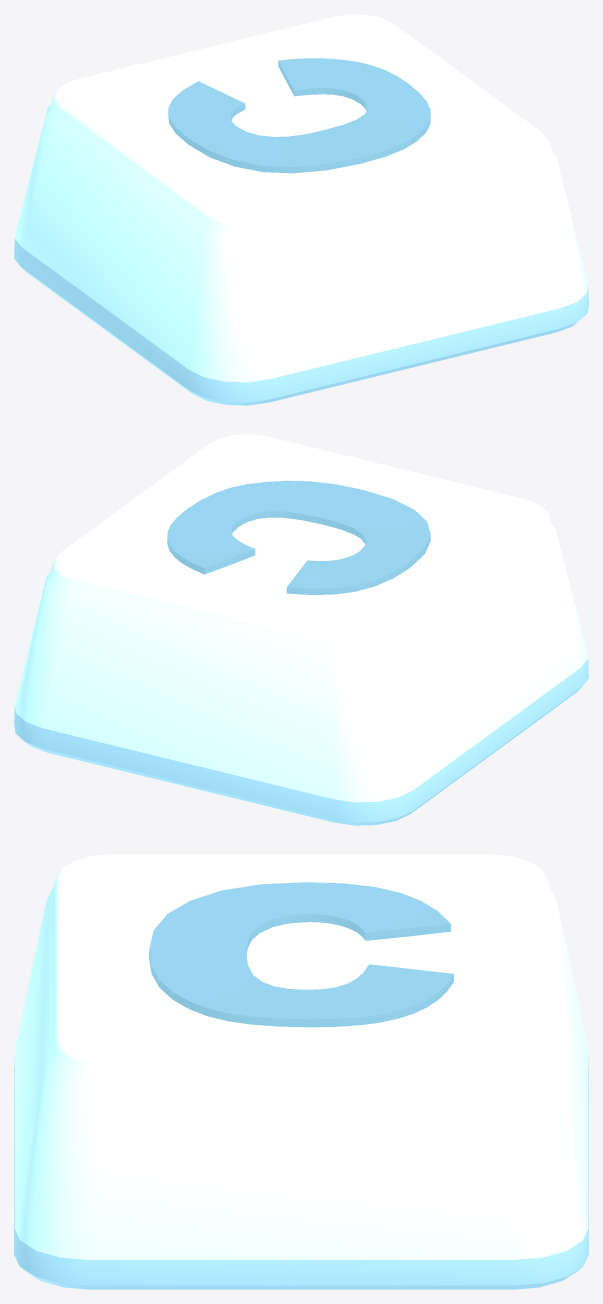
File: props__Key_C.glb
The picture shows the model from 3 angles, top to bottom: view 1: azimuth 30°, elevation 25°; view 2: azimuth 150°, elevation 25°; view 3: azimuth 270°, elevation 25°; orthographic projection. The views are drawn at different scales.
Parts seen in each view (by area): view 1: Key_C; view 2: Key_C; view 3: Key_C.
Part boxes in pixels (bbox=[...]): Key_C: bbox=[14, 14, 588, 405]; Key_C: bbox=[14, 434, 588, 825]; Key_C: bbox=[14, 854, 588, 1289].
Size of the model in its own units: 3.9 by 1.65 by 3.9.
